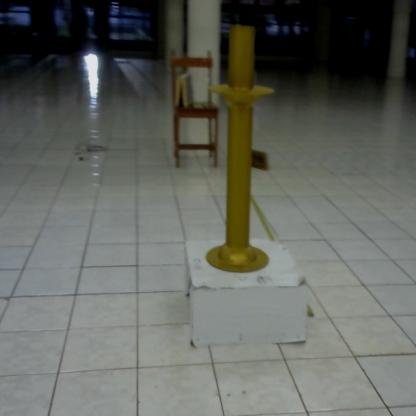pole: (209, 22, 277, 278)
